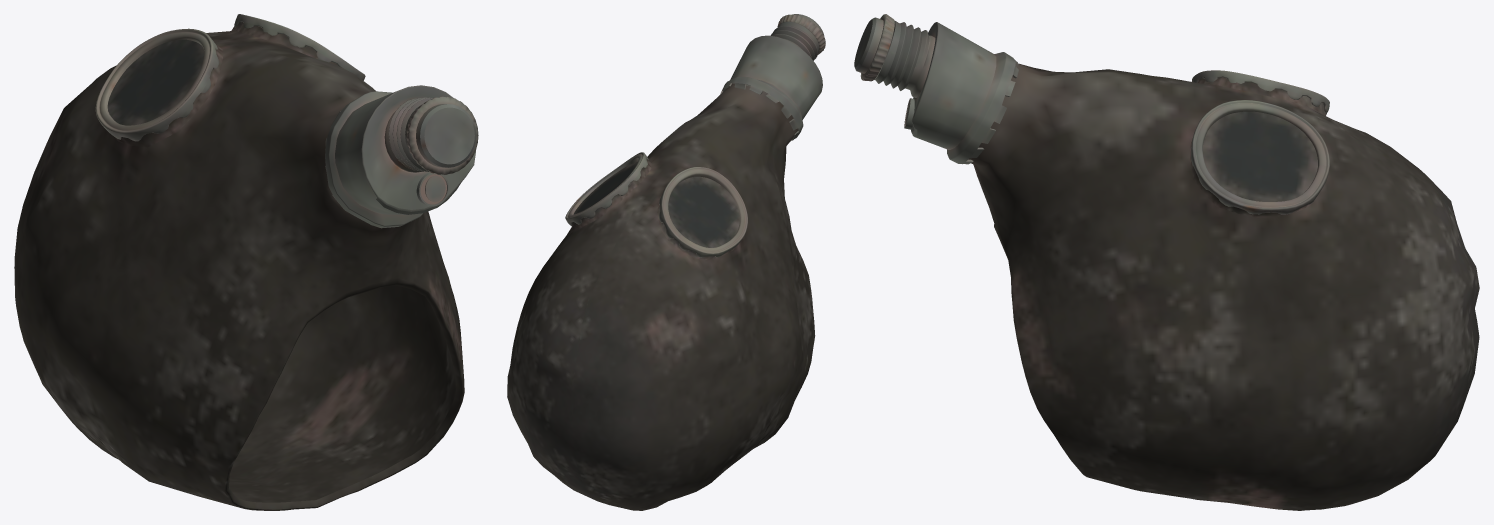
File: old_gas_mask.c2d9a71101.glb
3 views of the same model, side by side, from view 1: azimuth 30°, elevation 25°; view 2: azimuth 150°, elevation 25°; view 3: azimuth 270°, elevation 25° (orthographic). The views are drawn at different scales.
Visible parts, largest first — view 1: old_gas_mask; view 2: old_gas_mask; view 3: old_gas_mask.
Boxes of the visible parts, x1,y1,x2,y2 form: old_gas_mask: (14, 14, 478, 510); old_gas_mask: (507, 14, 825, 510); old_gas_mask: (854, 14, 1479, 510).
Size of the model in its own units: 0.1953 by 0.2807 by 0.3326.
Materials: 1 (1 with a texture image).
